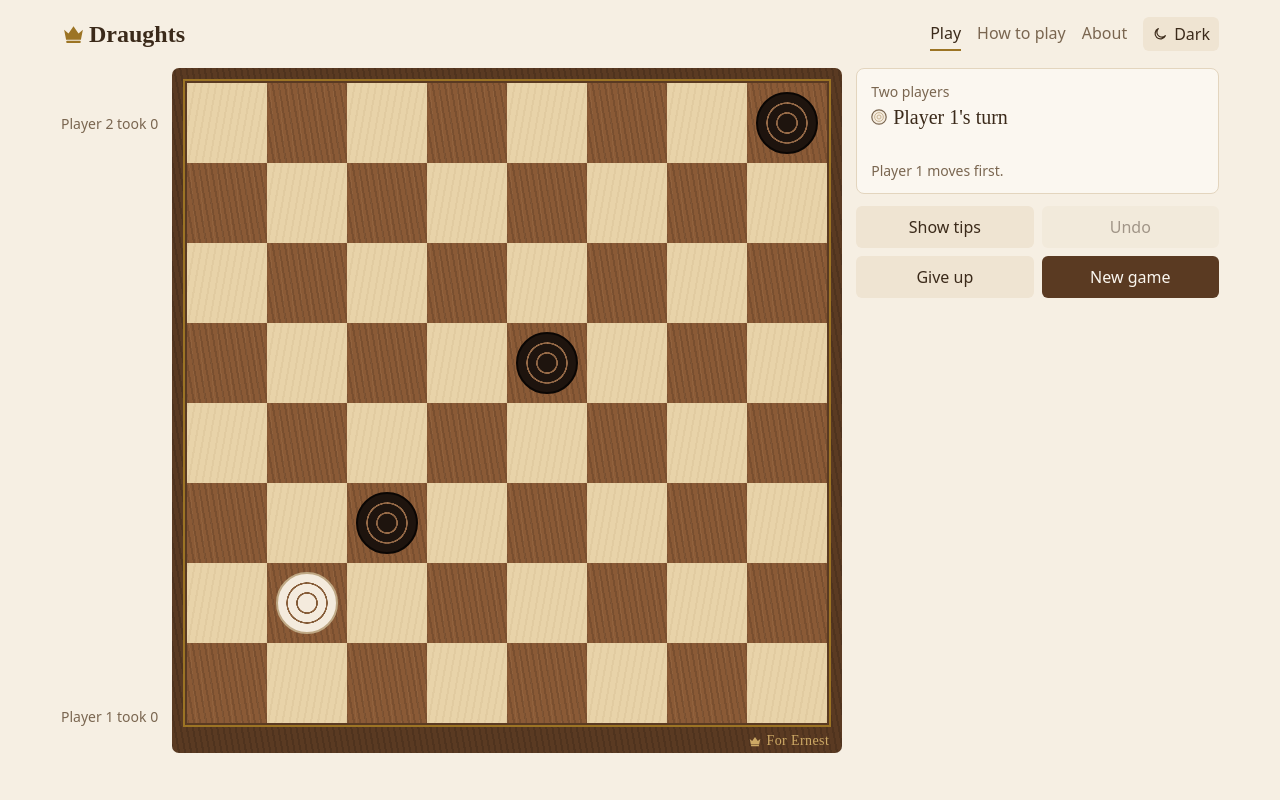
Test: the game screen › shows End turn during a chain, and it passes the turn (spec section 6.1.3)
Expected: the button "End turn" is not shown
Step 1. Click the cell named "Row 7, column 2, player 1's man" → coordinates (307, 603), box [267,563,347,643]
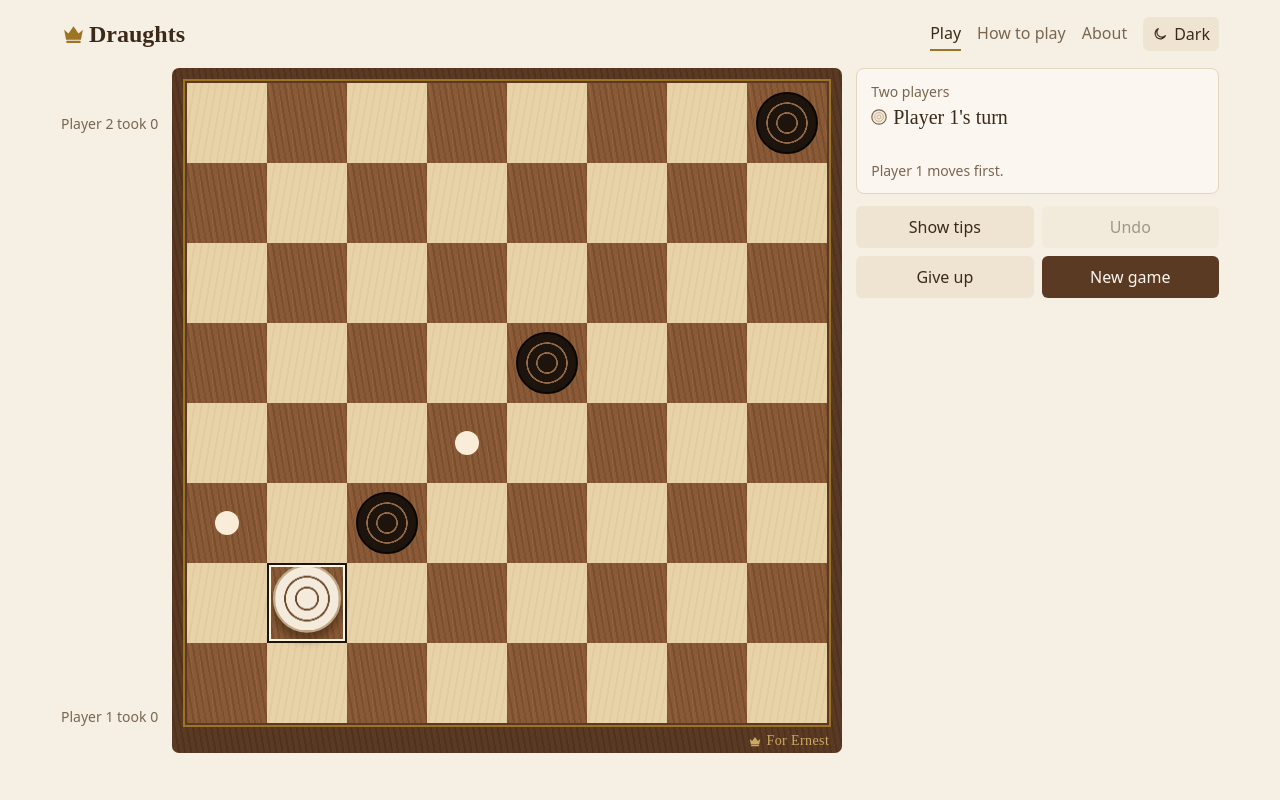
Step 2. Click the cell named "Row 5, column 4, empty, target" → coordinates (467, 443), box [427,403,507,483]
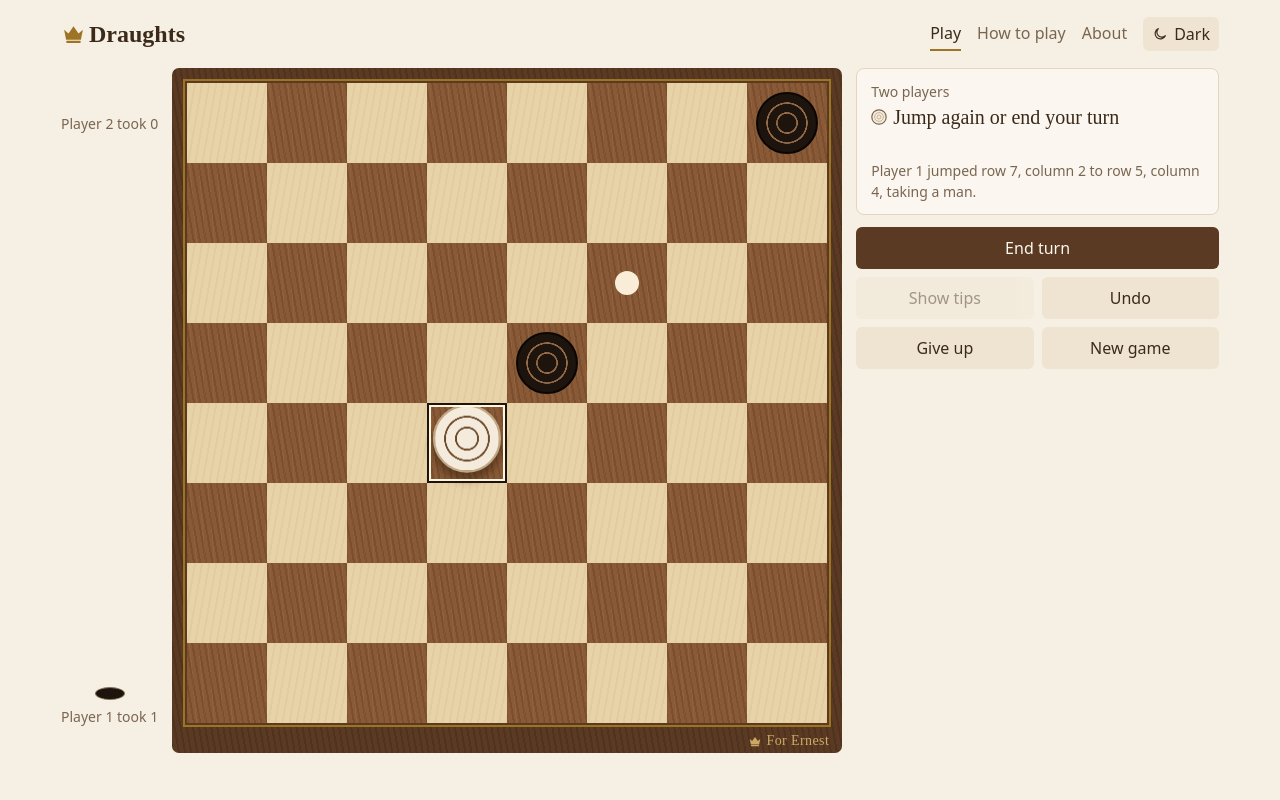
Expected: the text "Jump again or end your turn" is shown, [893,104,1119,130]
Step 3. Click the button "End turn" → coordinates (1038, 248), box [856,227,1219,269]
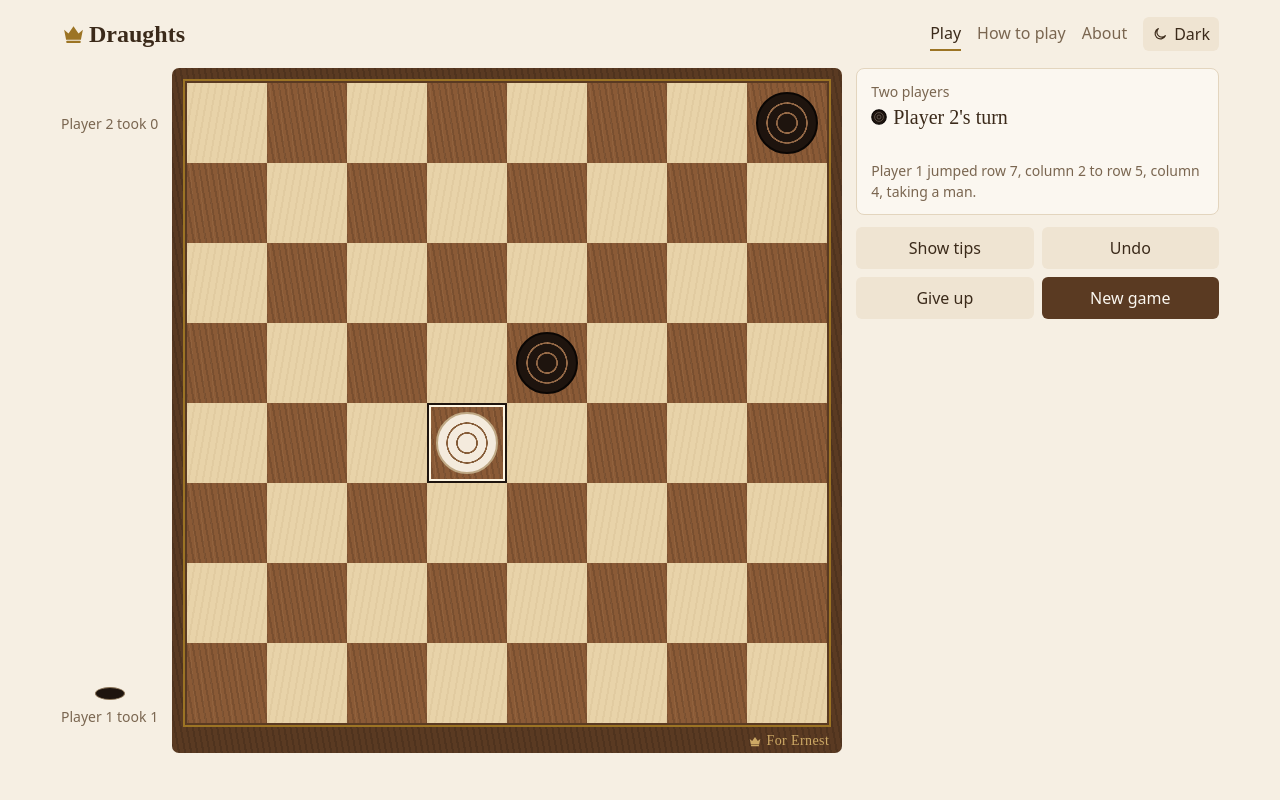
Expected: the text "Player 1 took 1" is shown, [61,706,158,727]
Expected: the text "Player 2's turn" is shown, [893,104,1008,130]
Expected: the button "End turn" is gone
